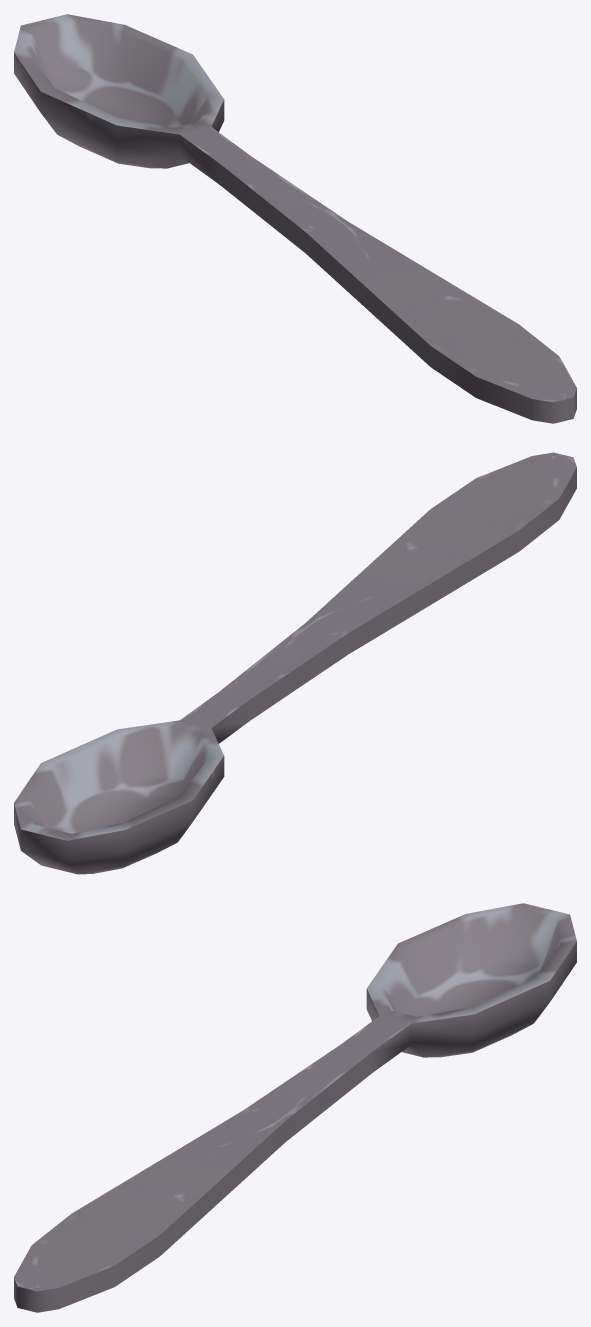
File: table_spoon.gltf
3 views of the same model, one above another, from view 1: azimuth 30°, elevation 25°; view 2: azimuth 150°, elevation 25°; view 3: azimuth 330°, elevation 25° (orthographic).
Visible parts, largest first — view 1: Table_Spoon; view 2: Table_Spoon; view 3: Table_Spoon.
Part boxes in pixels (x1,y1,x2,y2): Table_Spoon: (14,14,576,423); Table_Spoon: (14,452,576,874); Table_Spoon: (14,903,576,1312).
Bounding box in the file's own units: 0.046 × 0.0182 × 0.2718.
Materials: 1 (1 with a texture image).
